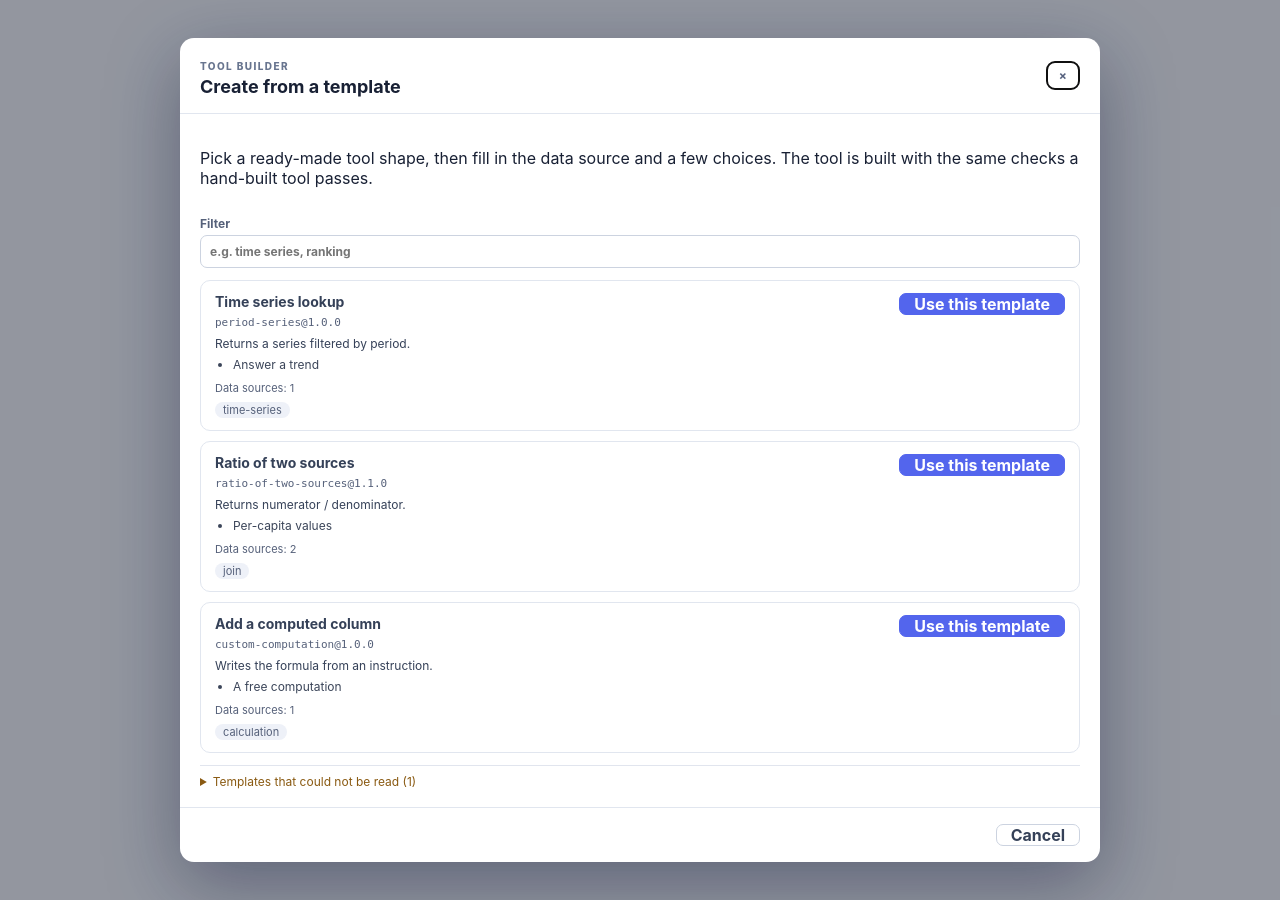
Test case: TemplateDialog: スロットの入力欄 › 正常: 数値は min/max つきの数値入力、既定値が入っている
What coordinates should you click on to do the following:
click the button "Use this template" in the row of "Time series lookup"
I would click on:
 (982, 304)
Its box is x1=899 y1=293 x2=1065 y2=315.
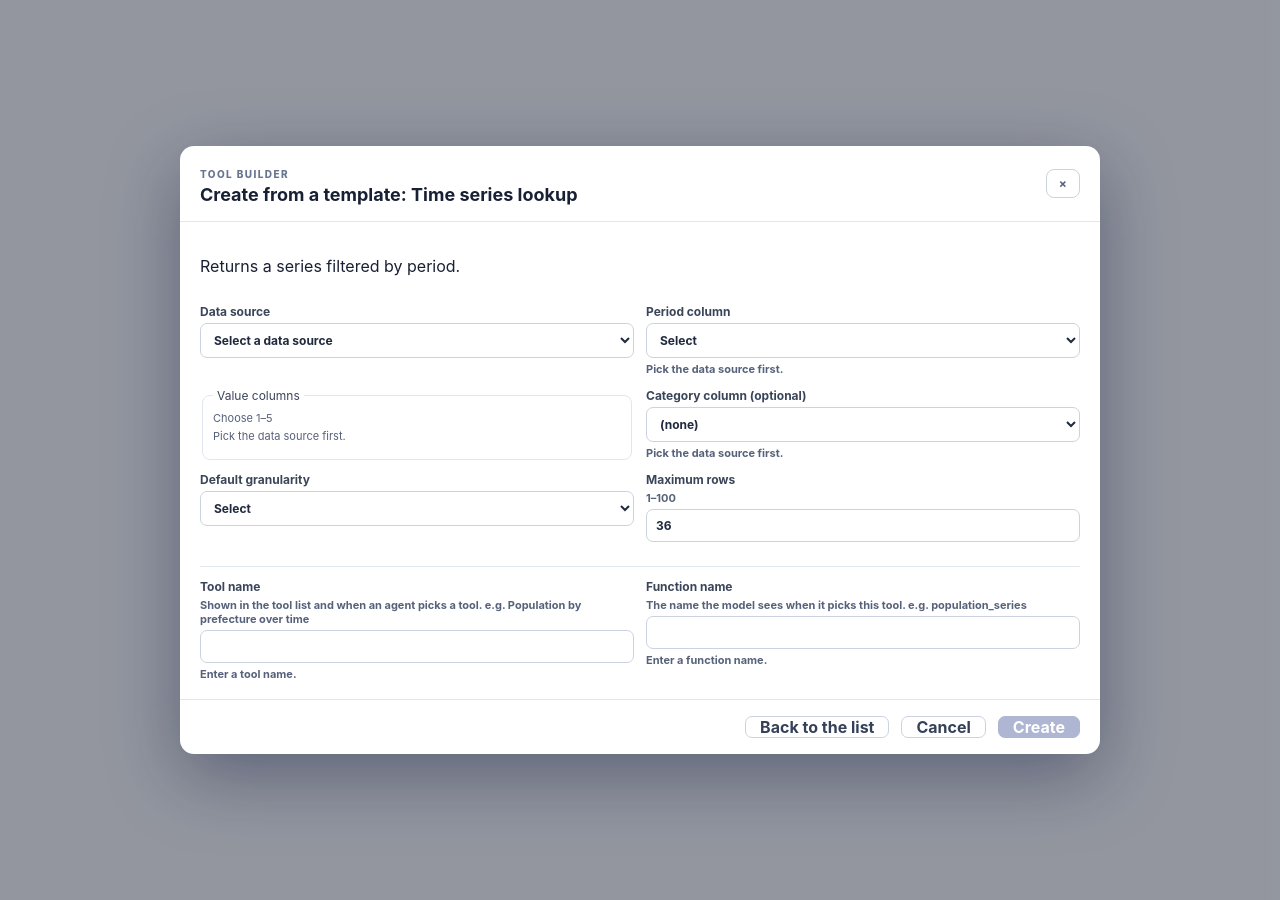
expect the number field labelled "Maximum rows" holds "36": met, box x1=646 y1=509 x2=1080 y2=542
